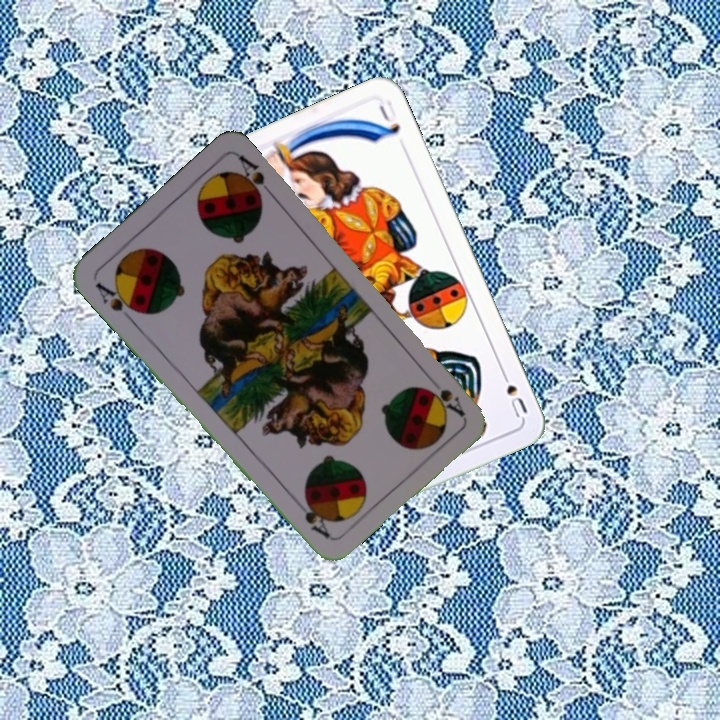SA: (91, 278, 143, 324), (422, 371, 468, 420)
SU: (496, 364, 530, 420)
